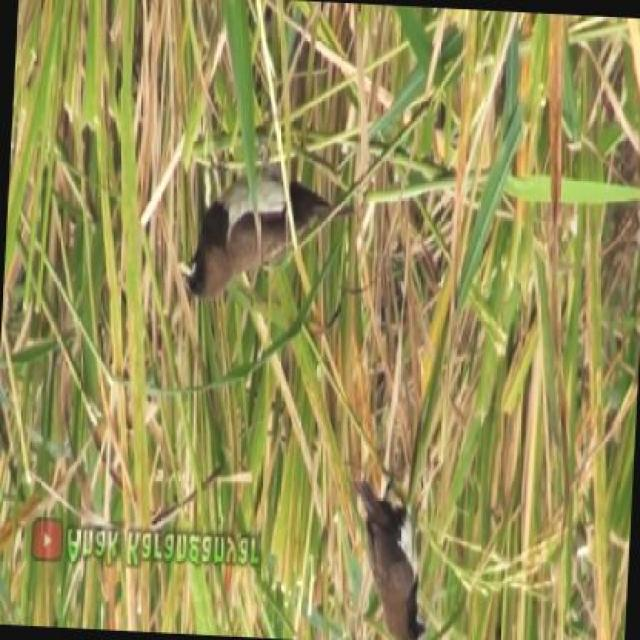Bird: (160, 160, 356, 301), (340, 473, 442, 637)
